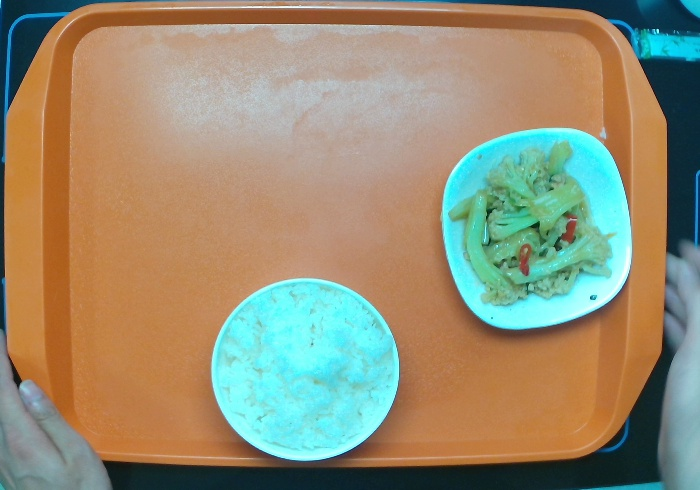ZNLD-Fan_Wan: (209, 275, 401, 463)
ZNLD-Si_Fang_Wan: (439, 126, 633, 332)
